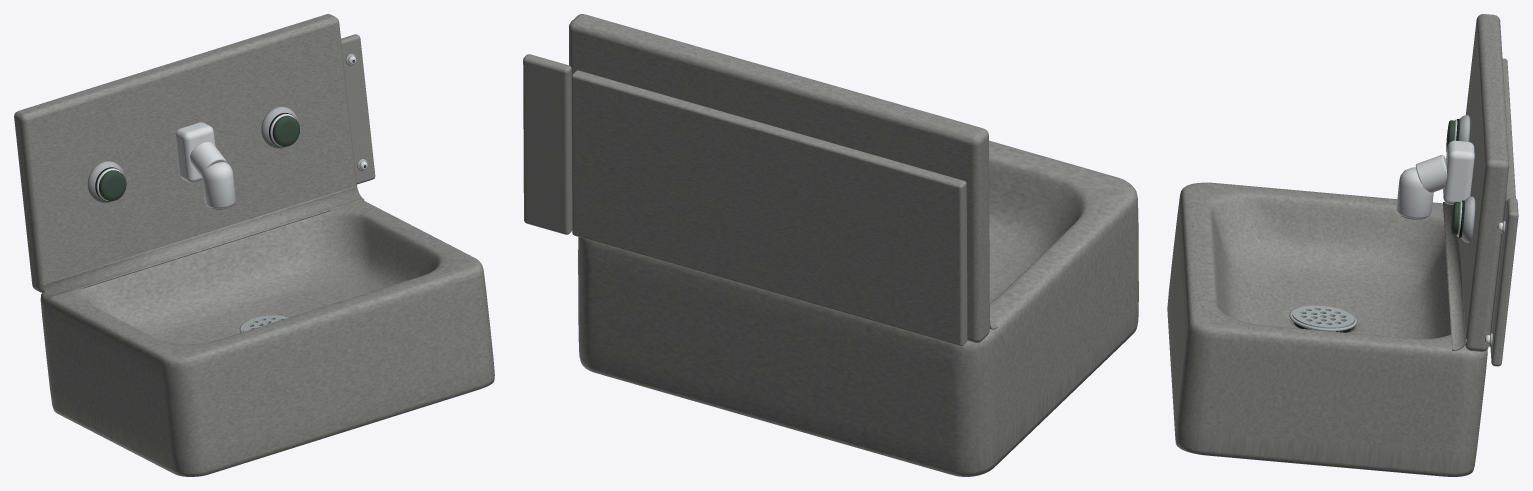
The model's file is detention_sink_fixture.glb.
The picture shows the model from 3 angles, left to right: view 1: azimuth 30°, elevation 25°; view 2: azimuth 150°, elevation 25°; view 3: azimuth 270°, elevation 25°; orthographic projection. The views are drawn at different scales.
Parts seen in each view (by area): view 1: FormedSinkBasinAndApron, IntegralBacksplash, BacksplashCove, WallMountingFlange_R, FaucetMountingBody, FaucetDownturnedOutlet, FaucetProjectingNeck, GreenActuator_R, GreenActuator_L, PushButtonEscutcheon_L; view 2: FormedSinkBasinAndApron, WallMountingCleat, IntegralBacksplash, WallMountingFlange_R; view 3: FormedSinkBasinAndApron, IntegralBacksplash, WallMountingFlange_R, BacksplashCove, FaucetMountingBody, FaucetDownturnedOutlet, WallMountingCleat, PerforatedDrainCover, FaucetProjectingNeck, PushButtonEscutcheon_R.
Part boxes in pixels (x1,y1,x2,y2): FormedSinkBasinAndApron: (40, 200, 494, 476); IntegralBacksplash: (14, 14, 356, 292); BacksplashCove: (42, 185, 364, 298); WallMountingFlange_R: (341, 34, 375, 184); FaucetMountingBody: (175, 122, 215, 182); FaucetDownturnedOutlet: (202, 162, 235, 208); FaucetProjectingNeck: (190, 142, 227, 176); GreenActuator_R: (272, 115, 299, 146); GreenActuator_L: (99, 170, 126, 200); PushButtonEscutcheon_L: (87, 161, 124, 203); FormedSinkBasinAndApron: (578, 140, 1138, 476); WallMountingCleat: (571, 70, 967, 346); IntegralBacksplash: (569, 14, 989, 342); WallMountingFlange_R: (523, 54, 572, 234); FormedSinkBasinAndApron: (1167, 182, 1487, 476); IntegralBacksplash: (1459, 14, 1509, 351); WallMountingFlange_R: (1490, 197, 1518, 366); BacksplashCove: (1443, 202, 1466, 350); FaucetMountingBody: (1443, 140, 1474, 204); FaucetDownturnedOutlet: (1396, 167, 1433, 218); WallMountingCleat: (1489, 58, 1515, 347); PerforatedDrainCover: (1292, 305, 1354, 328); FaucetProjectingNeck: (1415, 154, 1447, 192); PushButtonEscutcheon_R: (1461, 196, 1475, 242).
Bounding box in the file's own units: 7.01 × 5.7 × 5.51.
Materials: 9 (5 with a texture image).
